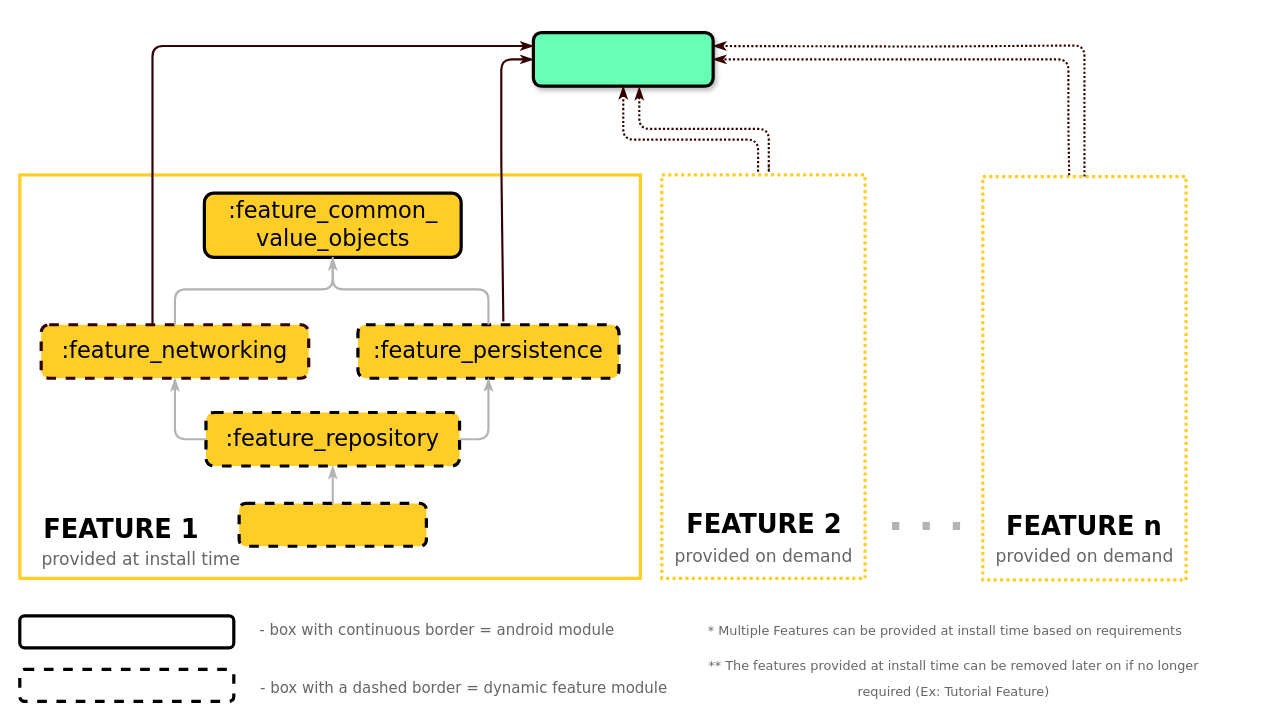
Image size: 1279x722. Some labels were removed from this diagram. The centre of each missing label's shape, as x and y in pixels:
:app = :core: the point at 624,60
:feature_ui: the point at 332,524
